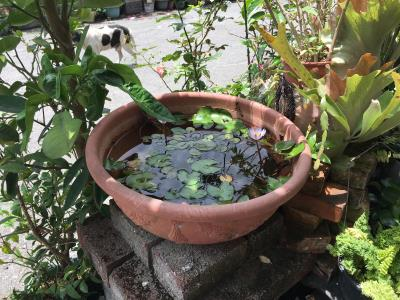bowl: (80, 88, 315, 249)
